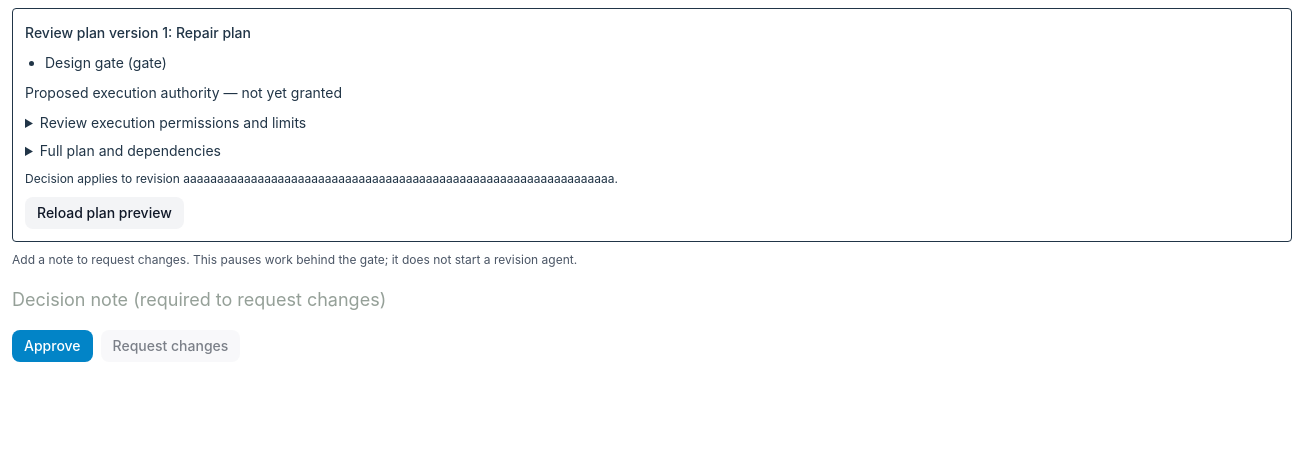
Test case: a refused decision › surfaces the refusal instead of implying the decision landed
What coordinates should you click on to do the following:
click the button with test id "gate-approve"
I would click on:
 (52, 346)
Its box is [12,330,93,362].
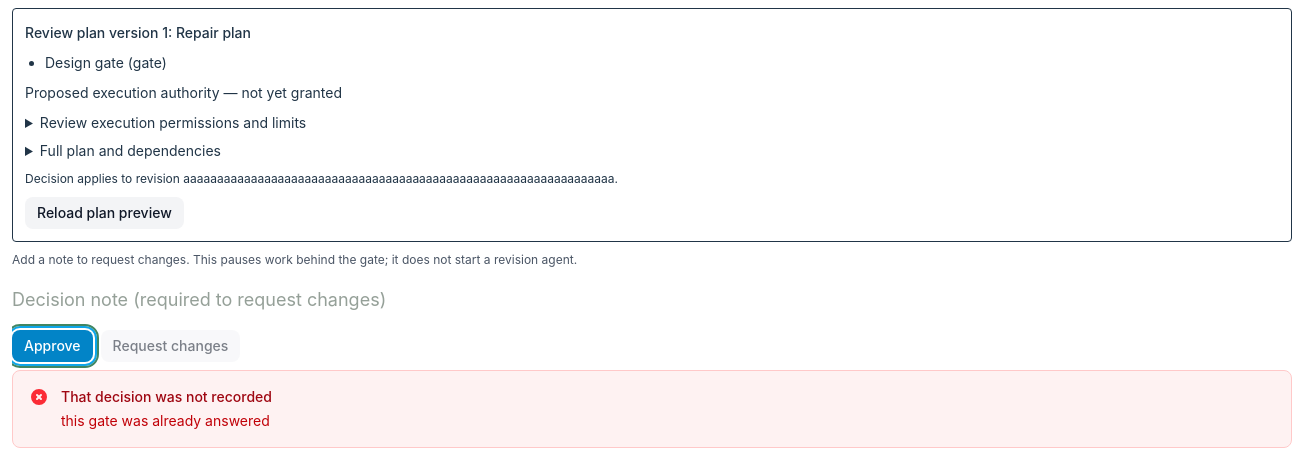
Check: the text "this gate was already answered" is shown, box [61,412,270,429]
